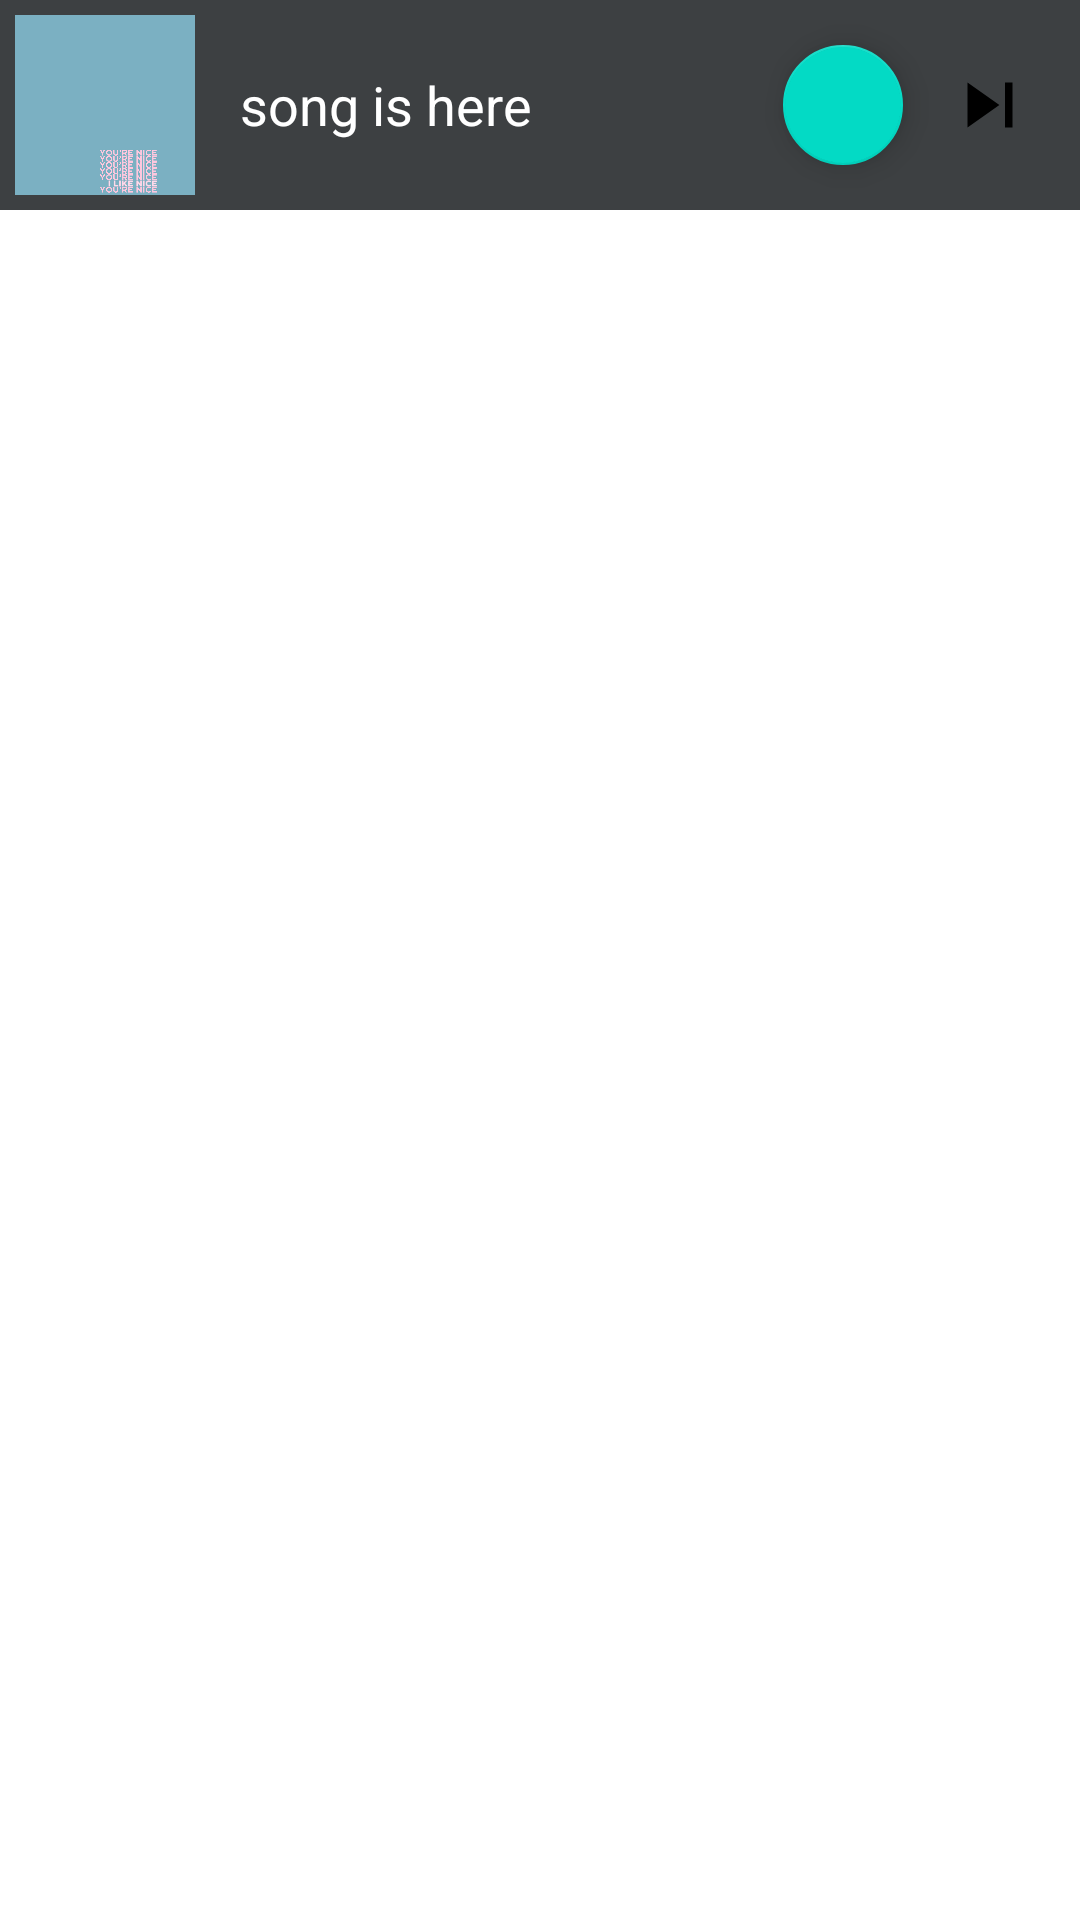

Point at icon controls on the screen. Image size 1080 x 1920, points as point (x, y).
skip next: point (990, 105)
